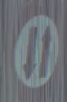Two way: (11, 8, 59, 90)
